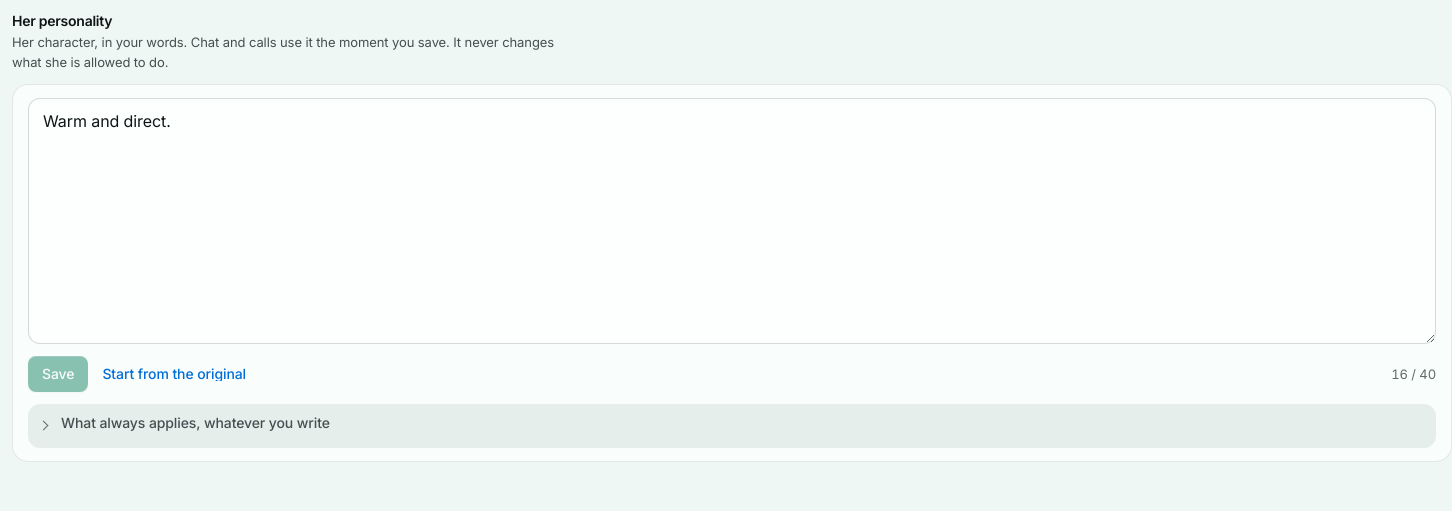
Test: her personality › keeps what you type while a save is on its way
Type " Brief." into the text box named "Personality" at {"x": 732, "y": 221}, box [28,98,1436,344]
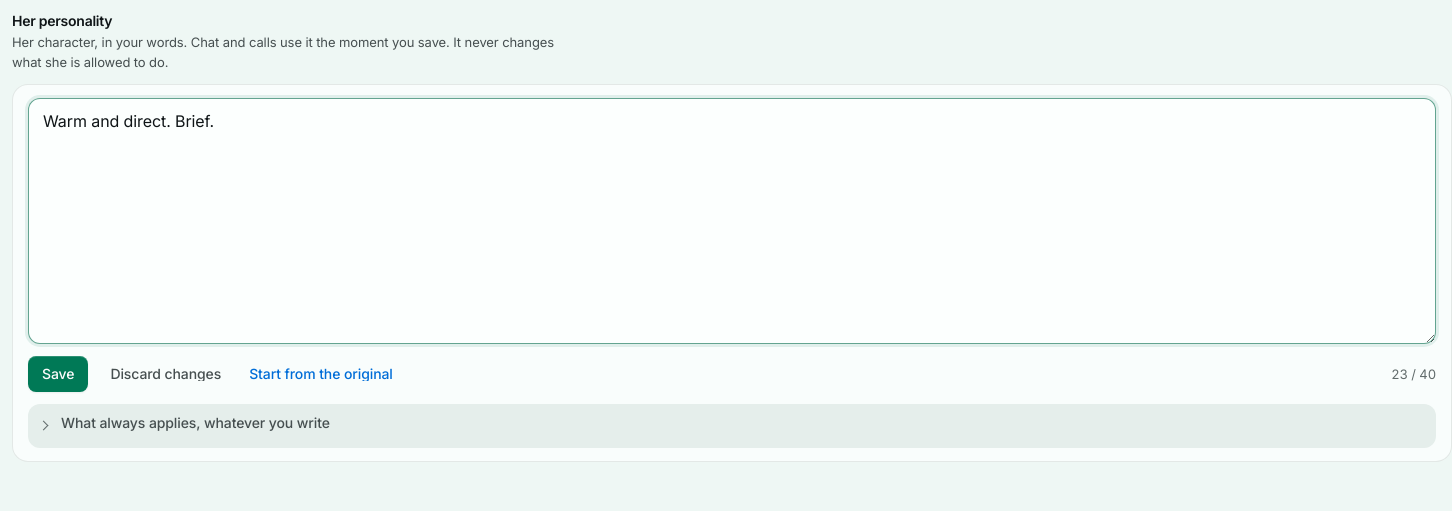
Type keys "{Control>}s{/Control}"
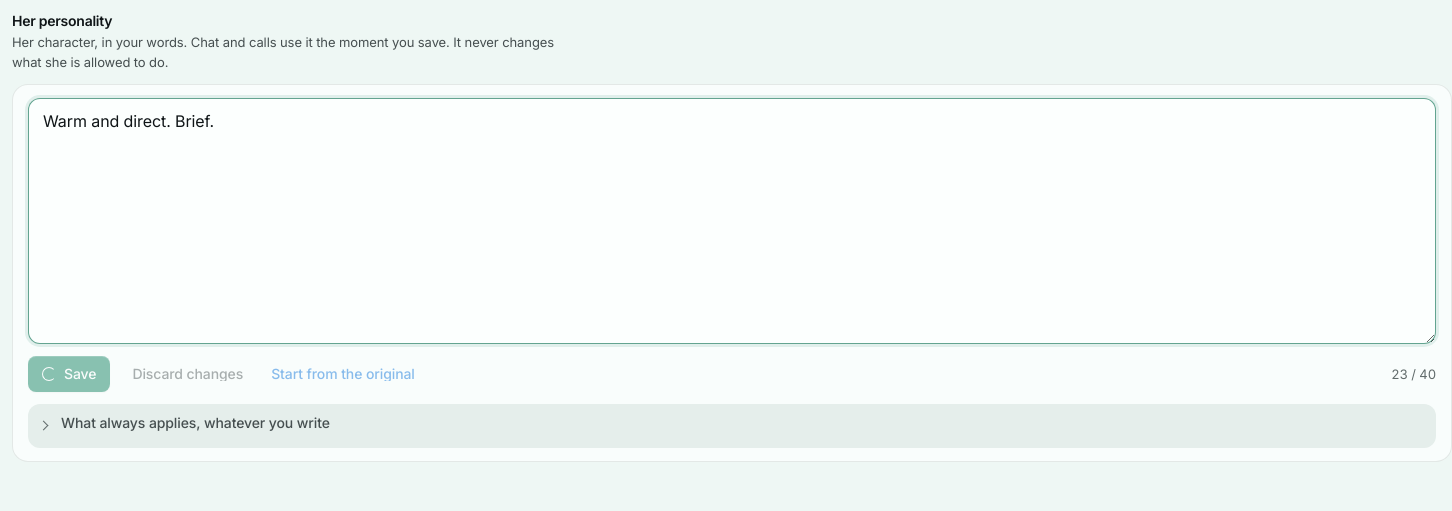
Type " Ok." into the text box named "Personality" at {"x": 732, "y": 221}, box [28,98,1436,344]
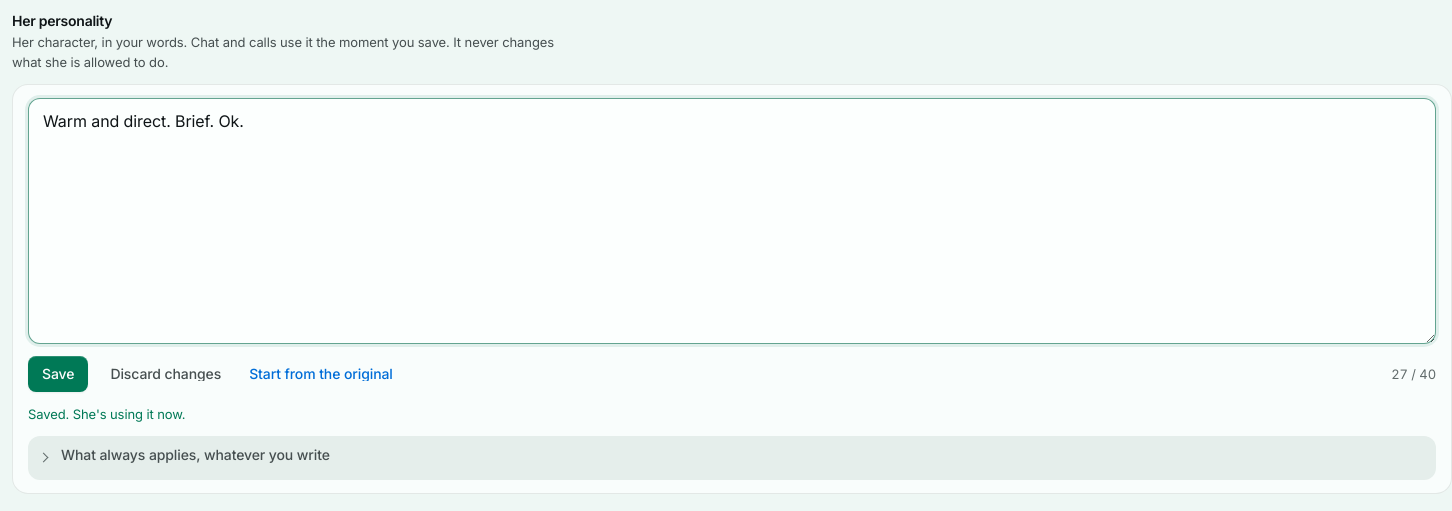
Expected: the text "Saved. She's using it now." is shown, [28,406,186,422]
Expected: the text box named "Personality" holds "Warm and direct. Brief. Ok.", [28,98,1436,344]
Expected: the button "Save" is enabled, [28,356,88,392]
